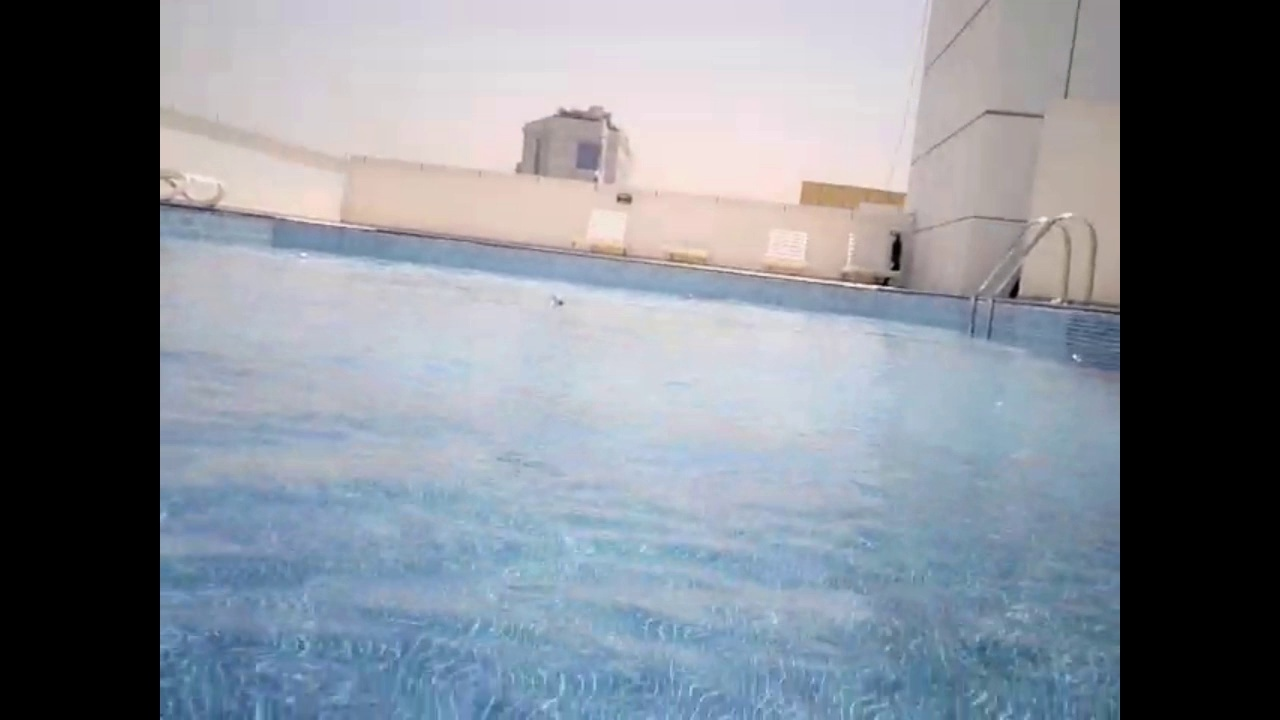debris: (541, 289, 572, 313), (676, 289, 696, 302), (296, 247, 309, 258)
